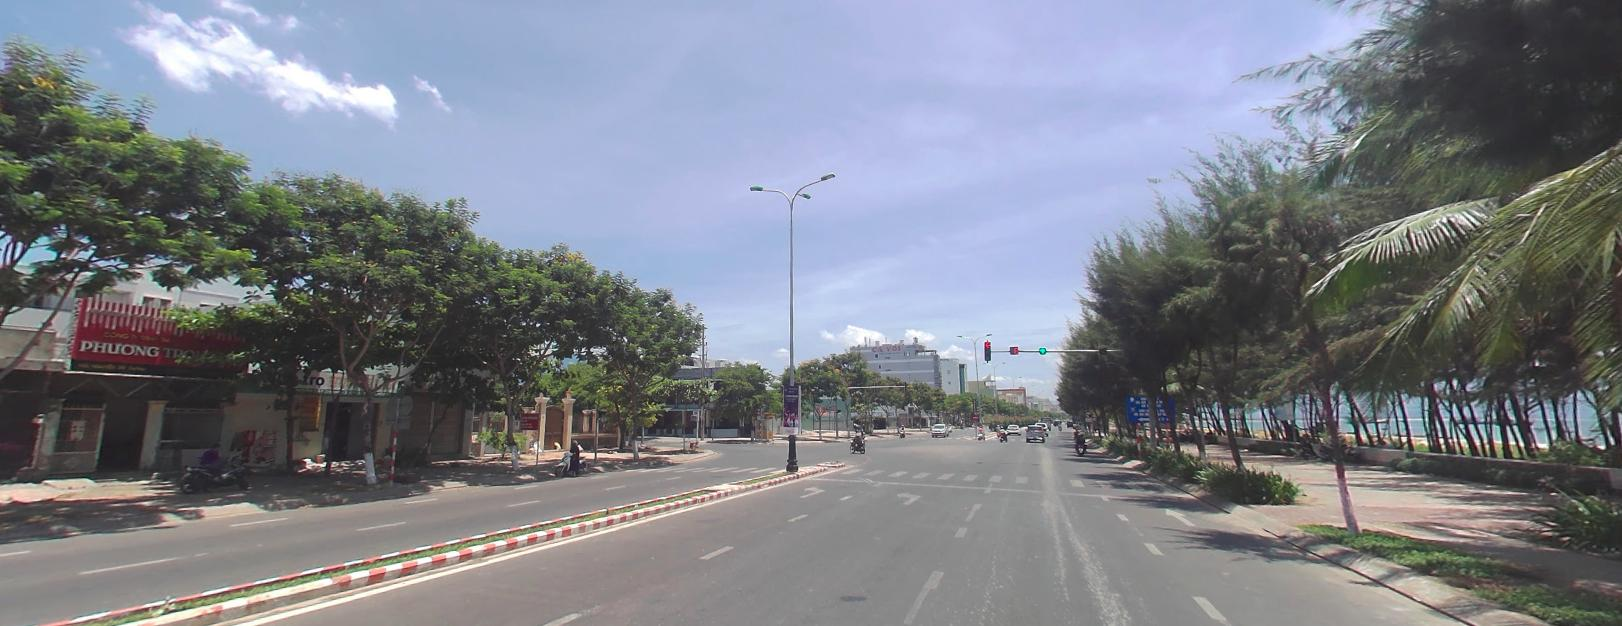Cam nguoc chieu: (971, 413, 978, 419)
